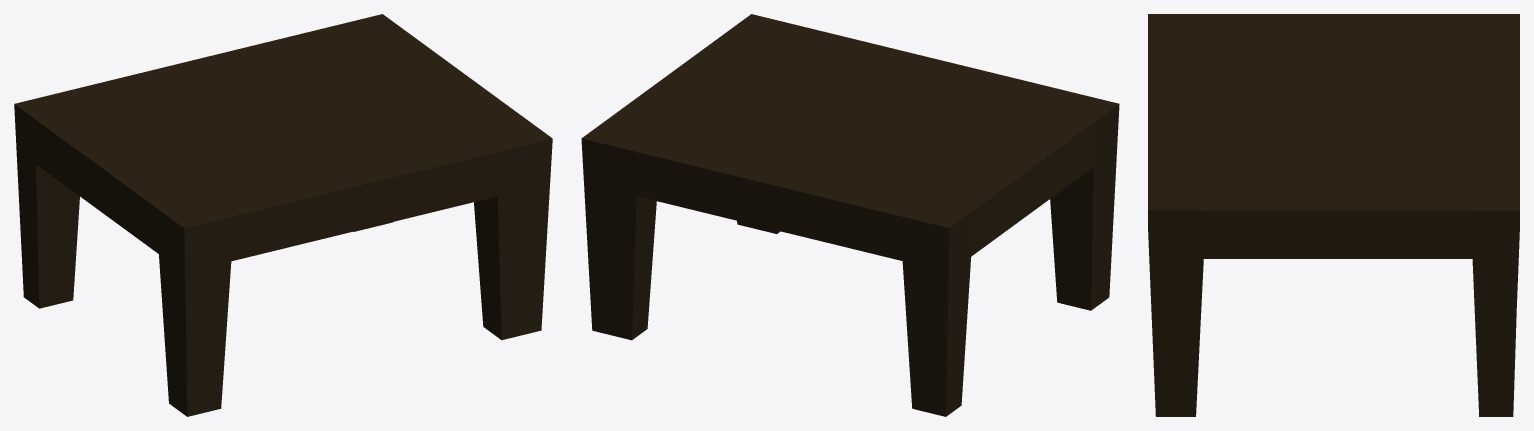
Rendered from CoffeeTable.fbx.
The picture shows the model from 3 angles, left to right: view 1: azimuth 30°, elevation 25°; view 2: azimuth 150°, elevation 25°; view 3: azimuth 270°, elevation 25°; orthographic projection. The views are drawn at different scales.
Parts seen in each view (by area): view 1: Cube; view 2: Cube; view 3: Cube.
Boxes of the visible parts, box(x1,y1,x2,y2) form: Cube: box(14, 14, 552, 416); Cube: box(581, 14, 1119, 416); Cube: box(1148, 14, 1519, 416).
Bounding box in the file's own units: 200 × 100 × 160.
